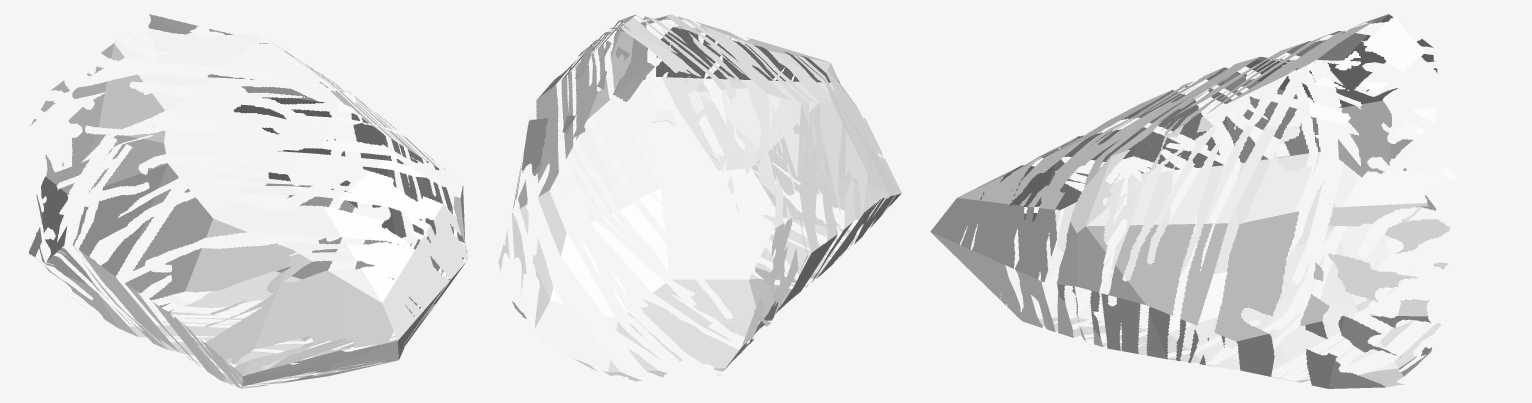
The model's file is Bullet.fbx.
3 views of the same model, side by side, from view 1: azimuth 30°, elevation 25°; view 2: azimuth 150°, elevation 25°; view 3: azimuth 270°, elevation 25° (orthographic). The views are drawn at different scales.
Parts seen in each view (by area): view 1: Icosphere; view 2: Icosphere; view 3: Icosphere.
Boxes of the visible parts, left/top/right/bottom form: Icosphere: left=29, top=14, right=468, bottom=388; Icosphere: left=498, top=14, right=901, bottom=381; Icosphere: left=930, top=14, right=1455, bottom=388.
Size of the model in its own units: 264 by 263 by 423.
1 material, 1 textured.
